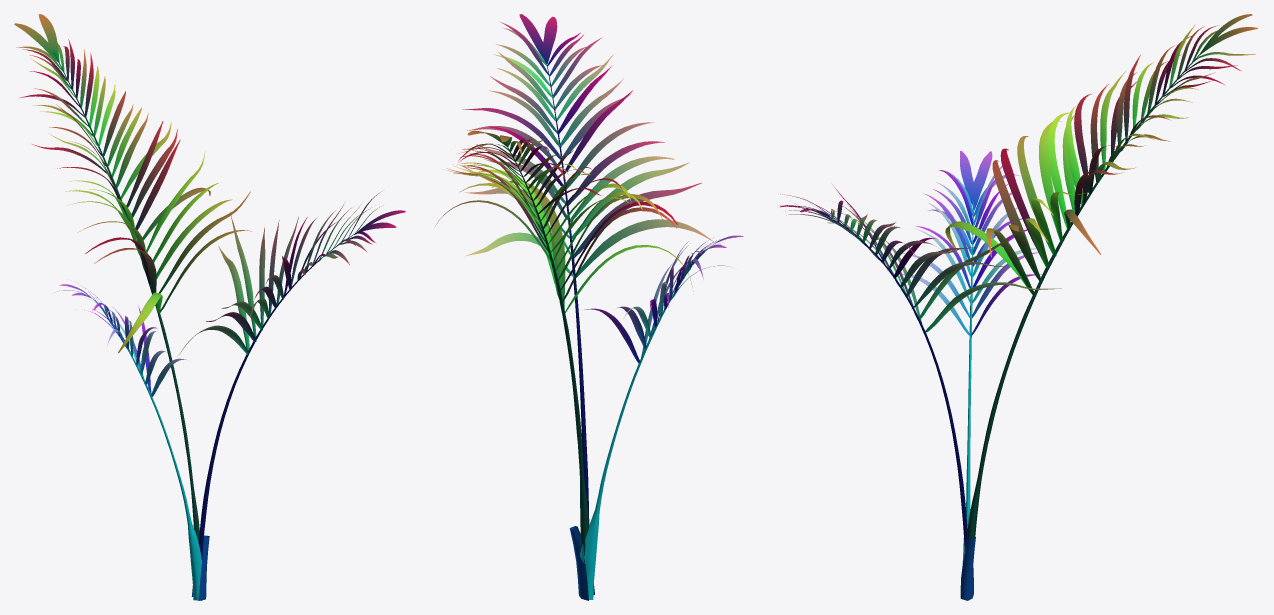
Rendered from ukgkcilia_VarB_LOD0.fbx.
3 views of the same model, side by side, from view 1: azimuth 30°, elevation 25°; view 2: azimuth 150°, elevation 25°; view 3: azimuth 270°, elevation 25° (orthographic). The views are drawn at different scales.
Visible parts, largest first — view 1: _gkrv_VarB_LOD1; view 2: _gkrv_VarB_LOD1; view 3: _gkrv_VarB_LOD1.
Part boxes in pixels (x1,y1,x2,y2): _gkrv_VarB_LOD1: (14,14,405,600); _gkrv_VarB_LOD1: (435,14,743,600); _gkrv_VarB_LOD1: (780,14,1257,600).
Bounding box in the file's own units: 96.14 × 173 × 137.
